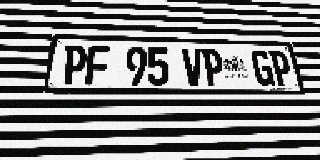5: (148, 47, 169, 86)
9: (126, 46, 147, 85)
F: (85, 45, 110, 85)
G: (250, 50, 276, 86)
P: (61, 45, 88, 85), (269, 50, 295, 86), (202, 48, 225, 86)
V: (182, 48, 205, 86)
